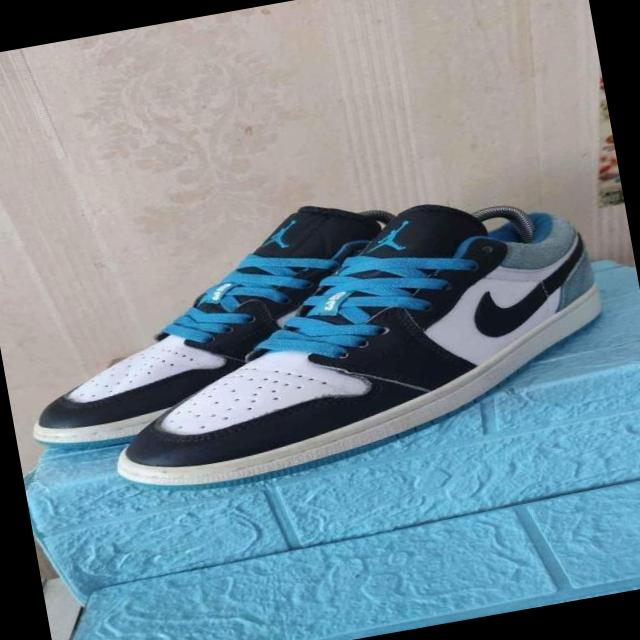nike_fake_jordan: (81, 174, 624, 507), (5, 182, 478, 452)
